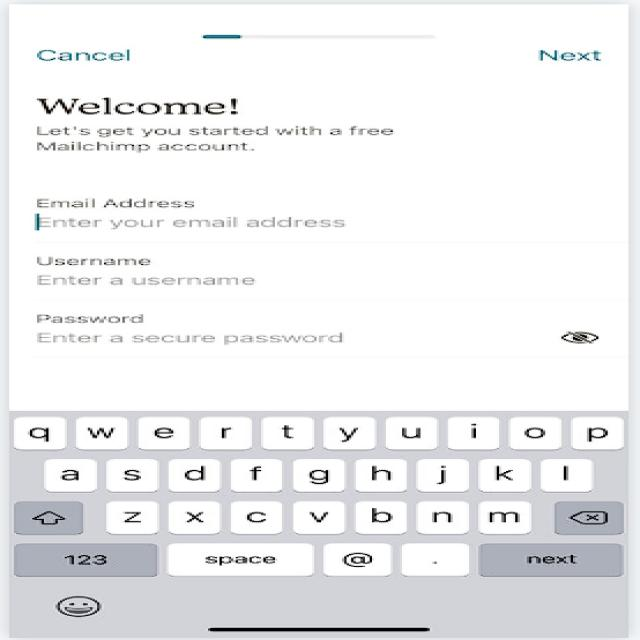input: (15, 183, 627, 252), (12, 243, 632, 304), (12, 306, 632, 363)
text: (15, 82, 546, 168)
